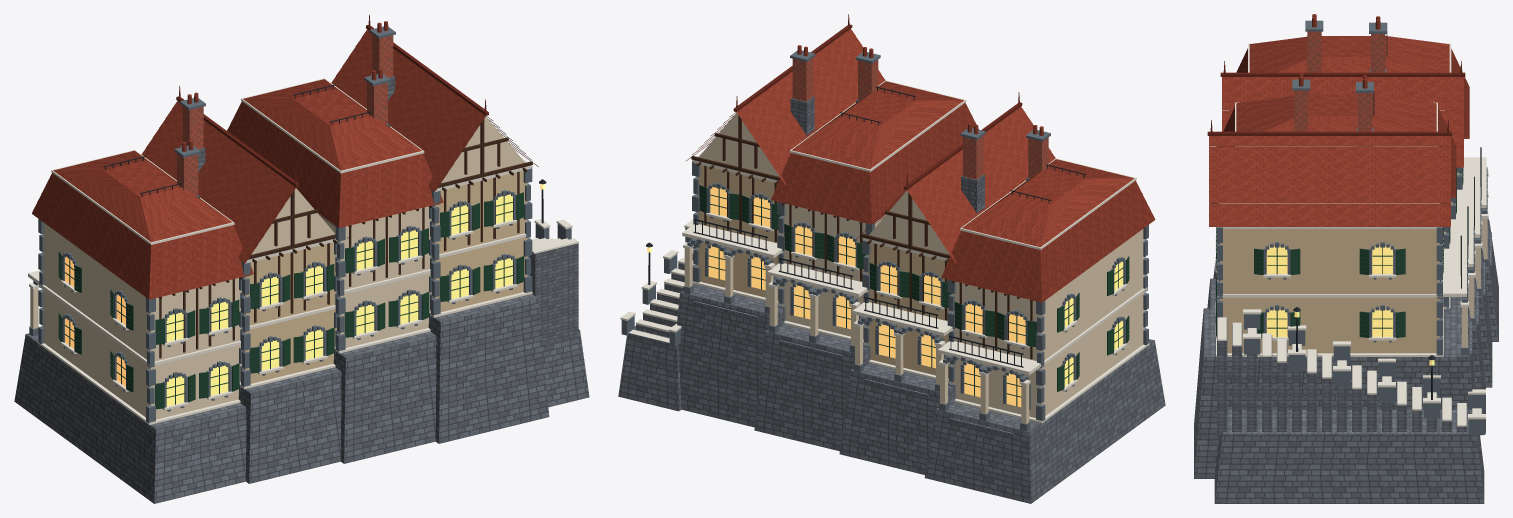
File: fv_hb_02_doc_le_dai_hanh_stepped_mansard_row.glb
3 renders of one model, left to right at view 1: azimuth 30°, elevation 25°; view 2: azimuth 150°, elevation 25°; view 3: azimuth 270°, elevation 25°, orthographic. The views are drawn at different scales.
Parts seen in each view (by area): view 1: Foundation_Skirt_Neg3p5m, Stepped_Normandy_Brittany_Roof, Shophouse_Stucco_Primary, Stone_Quoins_And_Arches, PineGreen_Louvered_Shutters, Shophouse_Stucco_Accent, Molded_Cornices_And_Sills, Warm_Night_Windows_20h00_Blend, Exposed_Timber_Trusses_And_Rafters, Brick_Chimney_Stacks, Roof_Ridges_Caps_And_Finials, Villa_Interior_Backing; view 2: Foundation_Skirt_Neg3p5m, Stepped_Normandy_Brittany_Roof, Shophouse_Stucco_Primary, Molded_Cornices_And_Sills, Stone_Quoins_And_Arches, Warm_Night_Windows_20h00_Blend, Shophouse_Stucco_Accent, PineGreen_Louvered_Shutters, Exposed_Timber_Trusses_And_Rafters, Brick_Chimney_Stacks, Wrought_Iron_Balustrades_And_Lamps, Roof_Ridges_Caps_And_Finials (+1 smaller); view 3: Foundation_Skirt_Neg3p5m, Stepped_Normandy_Brittany_Roof, Shophouse_Stucco_Accent, Molded_Cornices_And_Sills, Stone_Quoins_And_Arches, PineGreen_Louvered_Shutters, Roof_Ridges_Caps_And_Finials, Brick_Chimney_Stacks, Warm_Night_Windows_20h00_Blend, Shophouse_Stucco_Primary, Wrought_Iron_Balustrades_And_Lamps.
Part boxes in pixels (left/top/right/bottom): Foundation_Skirt_Neg3p5m: left=14, top=74, right=589, bottom=503; Stepped_Normandy_Brittany_Roof: left=32, top=21, right=485, bottom=299; Shophouse_Stucco_Primary: left=30, top=116, right=524, bottom=419; Stone_Quoins_And_Arches: left=29, top=26, right=571, bottom=422; PineGreen_Louvered_Shutters: left=58, top=192, right=524, bottom=409; Shophouse_Stucco_Accent: left=243, top=170, right=527, bottom=383; Molded_Cornices_And_Sills: left=28, top=78, right=578, bottom=425; Warm_Night_Windows_20h00_Blend: left=65, top=184, right=545, bottom=406; Exposed_Timber_Trusses_And_Rafters: left=158, top=119, right=532, bottom=358; Brick_Chimney_Stacks: left=177, top=34, right=393, bottom=195; Roof_Ridges_Caps_And_Finials: left=176, top=14, right=538, bottom=238; Villa_Interior_Backing: left=66, top=195, right=511, bottom=404; Foundation_Skirt_Neg3p5m: left=618, top=96, right=1165, bottom=503; Stepped_Normandy_Brittany_Roof: left=736, top=29, right=1155, bottom=302; Shophouse_Stucco_Primary: left=684, top=112, right=1144, bottom=423; Molded_Cornices_And_Sills: left=620, top=80, right=1149, bottom=423; Stone_Quoins_And_Arches: left=621, top=50, right=1148, bottom=431; Warm_Night_Windows_20h00_Blend: left=647, top=186, right=1123, bottom=407; Shophouse_Stucco_Accent: left=696, top=164, right=951, bottom=378; PineGreen_Louvered_Shutters: left=699, top=185, right=1129, bottom=406; Exposed_Timber_Trusses_And_Rafters: left=691, top=115, right=1033, bottom=359; Brick_Chimney_Stacks: left=792, top=58, right=1048, bottom=179; Wrought_Iron_Balustrades_And_Lamps: left=646, top=86, right=1086, bottom=367; Roof_Ridges_Caps_And_Finials: left=685, top=14, right=1022, bottom=239; Foundation_Skirt_Neg3p5m: left=1194, top=68, right=1498, bottom=503; Stepped_Normandy_Brittany_Roof: left=1209, top=14, right=1469, bottom=226; Shophouse_Stucco_Accent: left=1220, top=202, right=1452, bottom=353; Molded_Cornices_And_Sills: left=1215, top=43, right=1488, bottom=426; Stone_Quoins_And_Arches: left=1216, top=20, right=1488, bottom=434; PineGreen_Louvered_Shutters: left=1216, top=167, right=1463, bottom=337; Roof_Ridges_Caps_And_Finials: left=1207, top=61, right=1465, bottom=135; Brick_Chimney_Stacks: left=1294, top=31, right=1385, bottom=131; Warm_Night_Windows_20h00_Blend: left=1267, top=110, right=1444, bottom=365; Shophouse_Stucco_Primary: left=1443, top=172, right=1487, bottom=347; Wrought_Iron_Balustrades_And_Lamps: left=1293, top=34, right=1481, bottom=399.
Bounding box in the file's own units: 26.62 × 20.61 × 15.82.
Materials: 13 (3 with a texture image).
